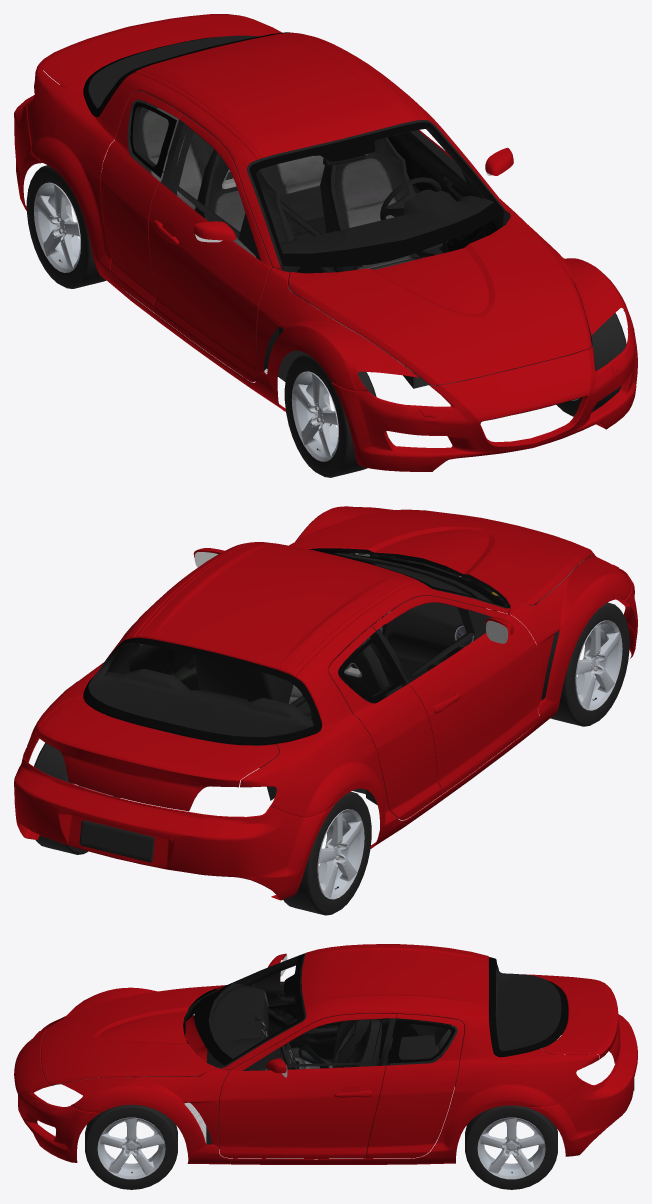
The model's file is car.glb.
3 renders of one model, top to bottom at view 1: azimuth 30°, elevation 25°; view 2: azimuth 150°, elevation 25°; view 3: azimuth 270°, elevation 25°, orthographic. The views are drawn at different scales.
Parts seen in each view (by area): view 1: RX8:lod10, RX8:lod13, RX8:lod14, RX8:lod0, RX8:lod11, RX8:lod16; view 2: RX8:lod10, RX8:lod13, RX8:lod0, RX8:lod11, RX8:lod14, RX8:lod12; view 3: RX8:lod10, RX8:lod13, RX8:lod0, RX8:lod11, RX8:lod14.
Part boxes in pixels (x1,y1,x2,y2): RX8:lod10: (14,14,637,471); RX8:lod13: (88,35,592,388); RX8:lod14: (83,32,504,267); RX8:lod0: (26,165,626,477); RX8:lod11: (34,182,579,461); RX8:lod16: (247,120,505,265); RX8:lod10: (14,506,637,900); RX8:lod13: (88,548,591,818); RX8:lod0: (34,602,629,915); RX8:lod11: (73,620,622,899); RX8:lod14: (83,551,507,745); RX8:lod12: (79,820,154,862); RX8:lod10: (14,944,637,1164); RX8:lod13: (40,956,561,1157); RX8:lod0: (85,1040,557,1189); RX8:lod11: (97,1047,545,1179); RX8:lod14: (194,954,568,1077).
Size of what is drawn, in the model's own units: 0.0191 by 0.0132 by 0.0443.
Materials: 9 (4 with a texture image).
